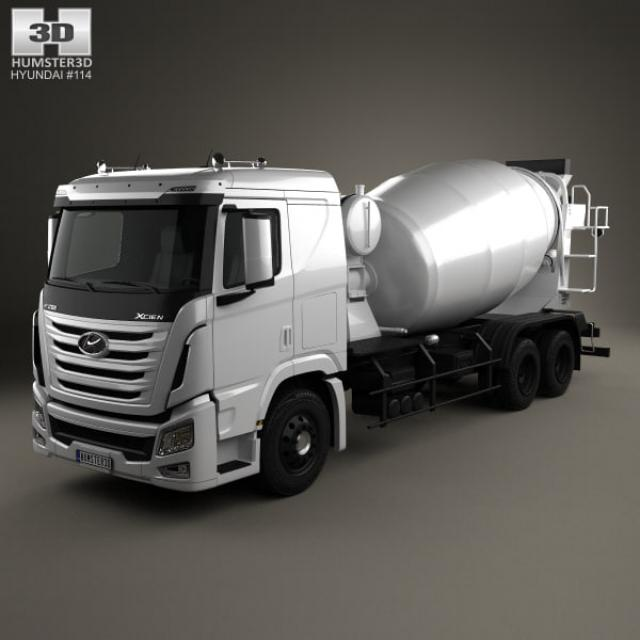Mixer Truck: (32, 160, 612, 499)
